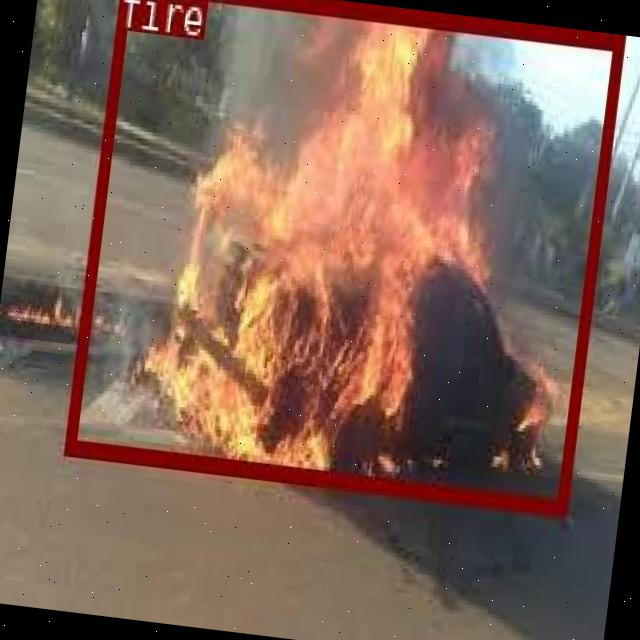fire: (64, 0, 624, 514)
